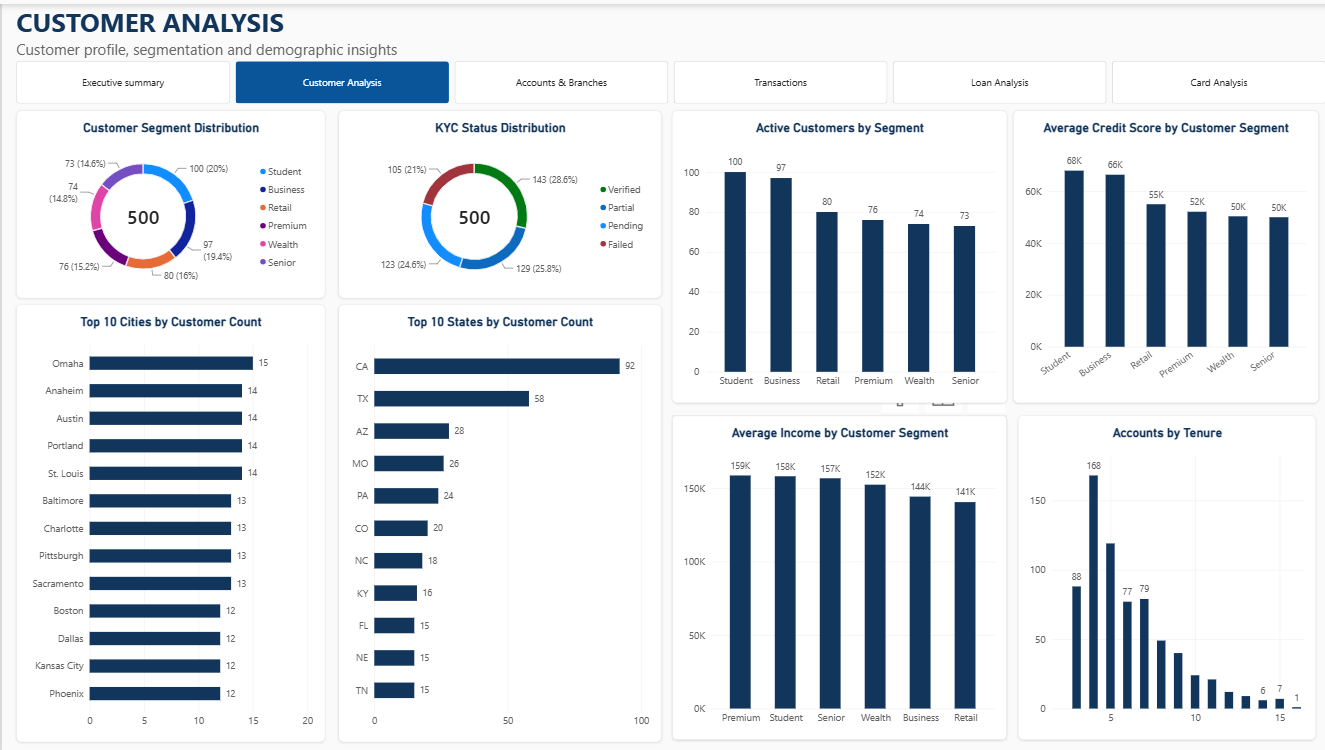

What the dashboard file says about the page in this screenshot:
{"tool":"powerbi","page":{"name":"Customer Analysis","canvas":[1920,1080],"ordinal":1},"visuals":[{"type":"donutChart","title":"Customer Segment Distribution","fields":{"Category":["customers.segment"],"Y":["customers.Total Customers"]},"box":[20.4,153.1,443.8,270.4],"z":0},{"type":"clusteredBarChart","title":"Top 10 Cities by Customer Count","fields":{"Category":["customers.city"],"Y":["customers.Total Customers"]},"box":[20.4,431.1,443.8,630.1],"z":1000},{"type":"clusteredColumnChart","title":"Average Income by Customer Segment","fields":{"Category":["customers.segment"],"Y":["Avg(customers.annual_income)"]},"box":[961.7,591.8,482.1,466.8],"z":2000},{"type":"clusteredColumnChart","title":"Average Credit Score by Customer Segment","fields":{"Category":["customers.segment"],"Y":["Sum(customers.credit_score)"]},"box":[1454,153.1,438.7,420.9],"z":3000},{"type":"donutChart","title":"KYC Status Distribution","fields":{"Category":["customers.kyc_status"],"Y":["customers.Total Customers"]},"box":[484.7,153.1,464.3,270.4],"z":4000},{"type":"clusteredColumnChart","title":"Accounts by Tenure","fields":{"Category":["accounts.Account Tenure Years"],"Y":["accounts.Total Accounts"]},"box":[1459.1,591.8,428.5,466.8],"z":5000},{"type":"clusteredBarChart","title":"Top 10 States by Customer Count","fields":{"Category":["customers.state"],"Y":["customers.Total Customers"]},"box":[484.7,431.1,464.3,630.1],"z":6000},{"type":"clusteredColumnChart","title":"Active Customers by Segment","fields":{"Category":["customers.segment"],"Y":["customers.Active Customers"]},"box":[961.7,153.1,482.1,420.9],"z":7000},{"type":"textbox","box":[20.4,0,755,117.3],"z":8000},{"type":"pageNavigator","box":[20.4,81.6,1882.5,61.2],"z":9000}]}

Visuals, with their boxes in screenshot pixels (x1, y1, x2, y2), scaled from the page's 1920x1080 canvas onto the 1325x750 screenshot:
"Customer Segment Distribution" donutChart: crop(14, 106, 320, 294)
"Top 10 Cities by Customer Count" clusteredBarChart: crop(14, 299, 320, 737)
"Average Income by Customer Segment" clusteredColumnChart: crop(664, 411, 996, 735)
"Average Credit Score by Customer Segment" clusteredColumnChart: crop(1003, 106, 1306, 399)
"KYC Status Distribution" donutChart: crop(334, 106, 655, 294)
"Accounts by Tenure" clusteredColumnChart: crop(1007, 411, 1303, 735)
"Top 10 States by Customer Count" clusteredBarChart: crop(334, 299, 655, 737)
"Active Customers by Segment" clusteredColumnChart: crop(664, 106, 996, 399)
textbox: crop(14, 0, 535, 81)
pageNavigator: crop(14, 57, 1313, 99)
